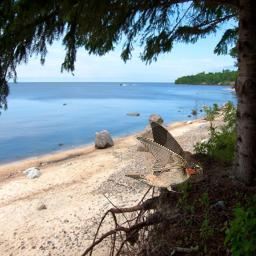Swallow: (124, 121, 203, 193)
